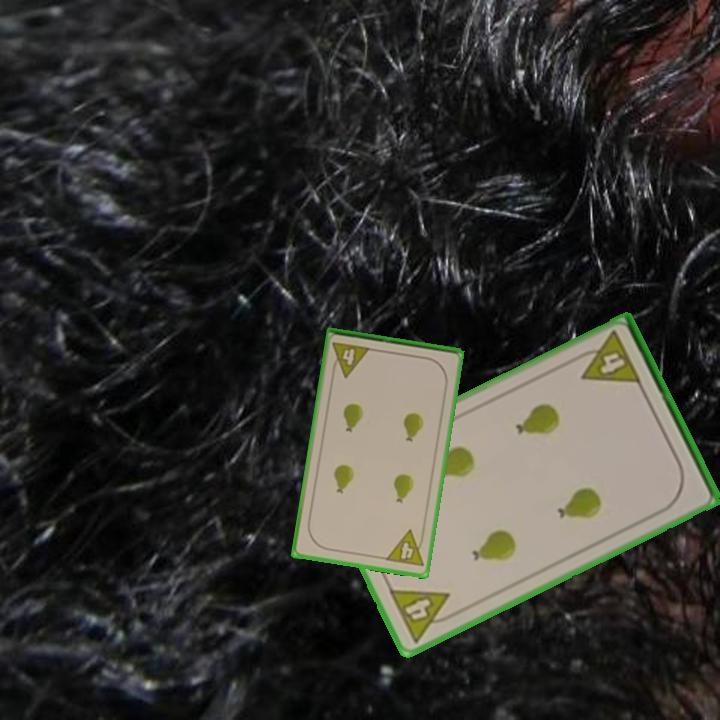4p: (385, 585, 461, 646), (570, 327, 644, 388), (382, 526, 428, 570), (328, 339, 373, 380)
